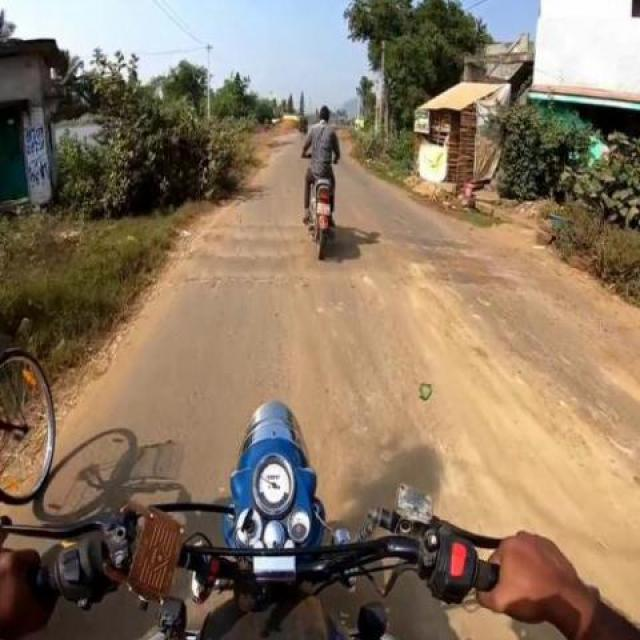Unmarked Bump: (175, 252, 522, 282), (335, 227, 473, 250), (332, 240, 484, 260), (196, 220, 306, 238), (192, 237, 311, 252)
